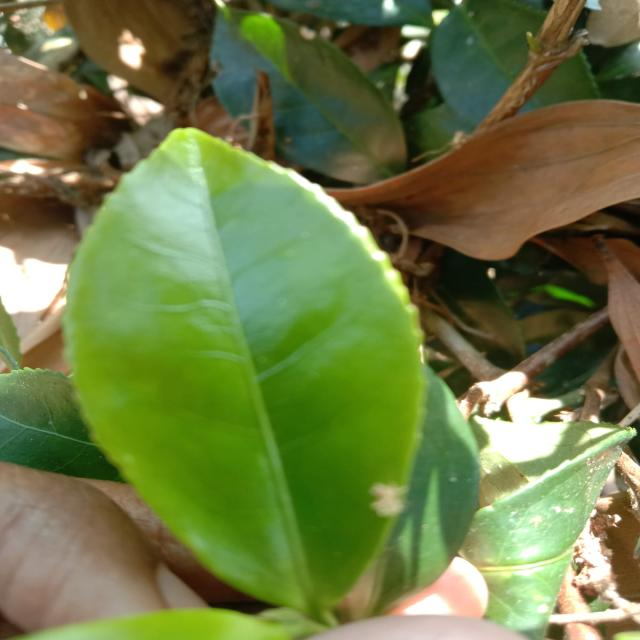Category B 2-4 days: (43, 118, 445, 619)
